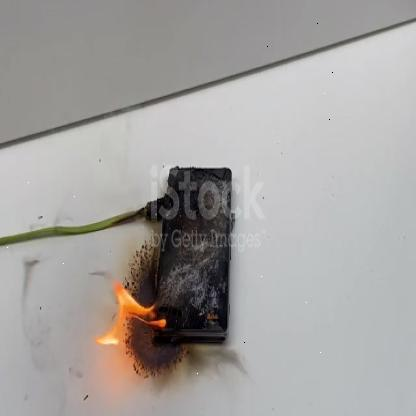fire: (97, 273, 169, 354)
